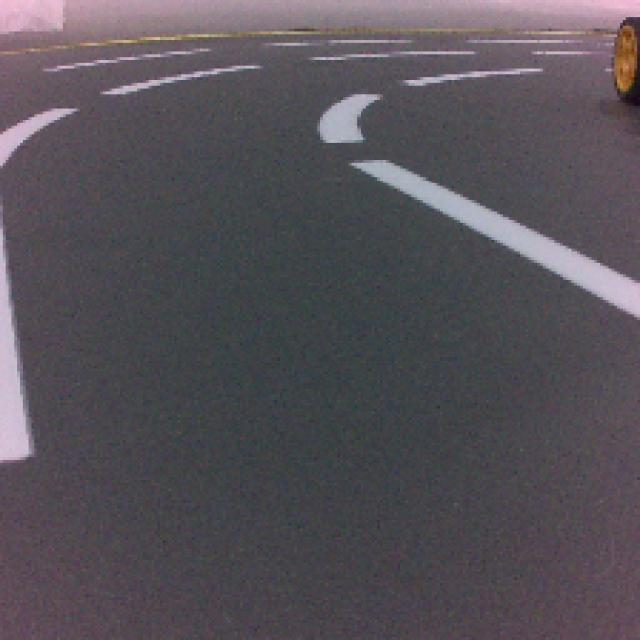Road: (21, 264, 640, 640)
